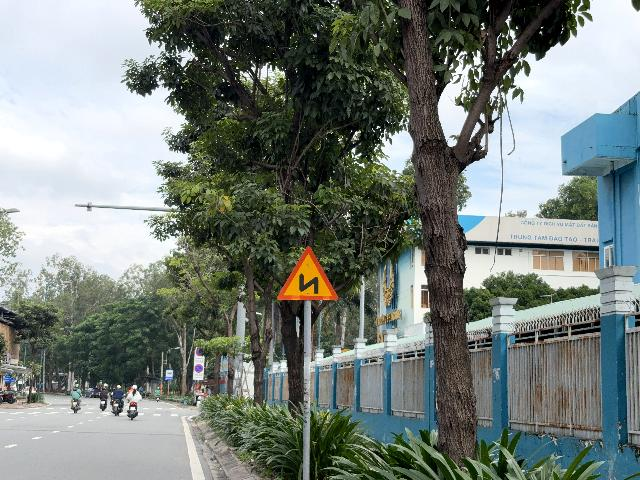nhieu-cho-ngoat-nguy-hiem-lien-tiep: (277, 246, 338, 300)
